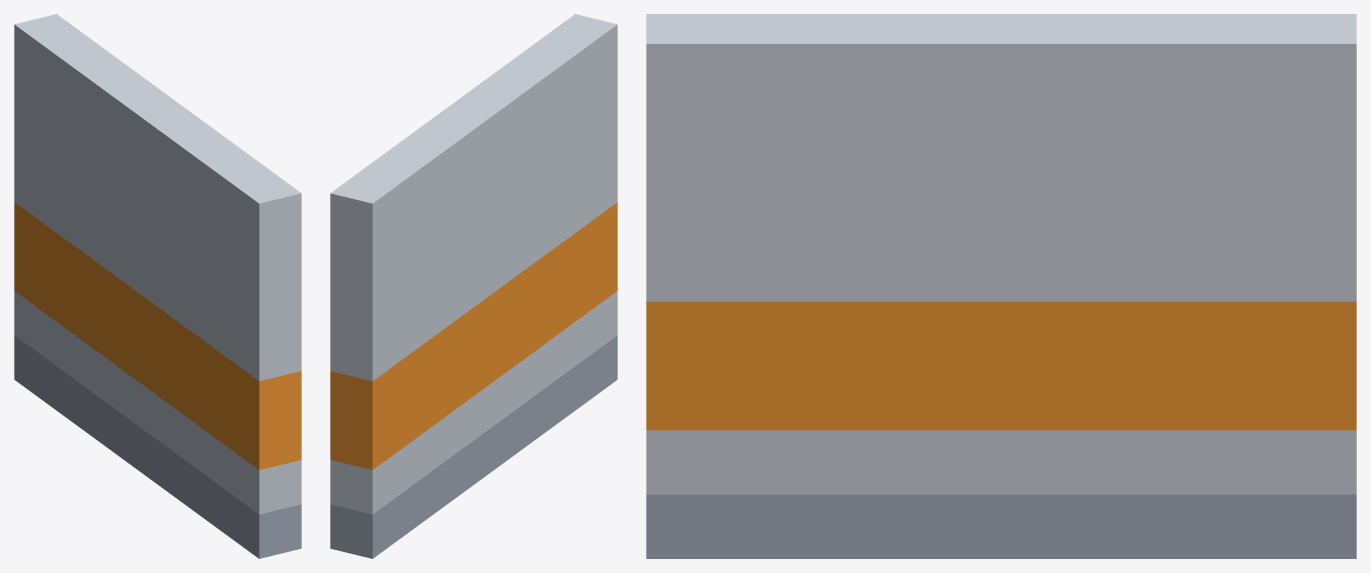
Rendered from corridor_wall.fbx.
3 views of the same model, side by side, from view 1: azimuth 30°, elevation 25°; view 2: azimuth 150°, elevation 25°; view 3: azimuth 270°, elevation 25° (orthographic). The views are drawn at different scales.
Visible parts, largest first — view 1: corridor_wall; view 2: corridor_wall; view 3: corridor_wall.
Boxes of the visible parts, left/top/right/bottom form: corridor_wall: left=14, top=14, right=301, bottom=558; corridor_wall: left=330, top=14, right=617, bottom=558; corridor_wall: left=646, top=14, right=1356, bottom=558.
Size of the model in its own units: 1 by 8 by 10.
